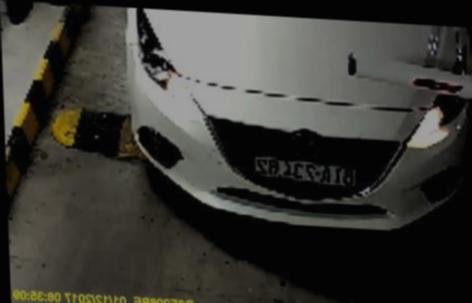License_Plate: (250, 156, 362, 187)
